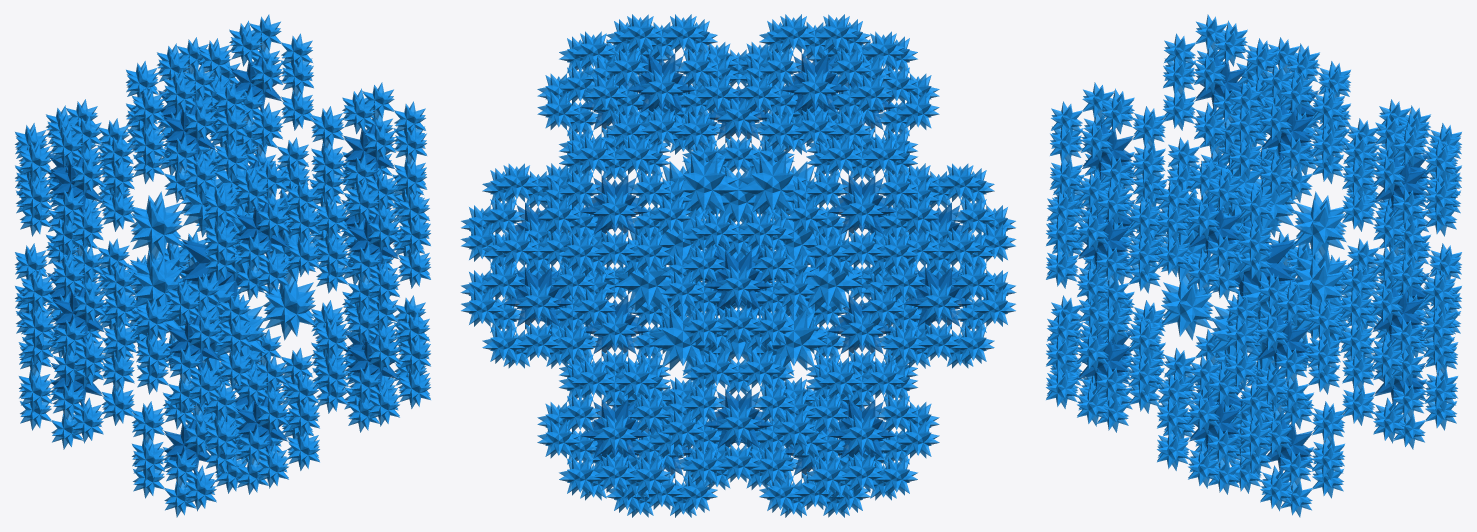
The model's file is fractalgreatstellapentakisdodecahedron2.glb.
The picture shows the model from 3 angles, left to right: view 1: azimuth 30°, elevation 25°; view 2: azimuth 150°, elevation 25°; view 3: azimuth 270°, elevation 25°; orthographic projection. The views are drawn at different scales.
Size of the model in its own units: 11.8 by 11.16 by 9.66.
